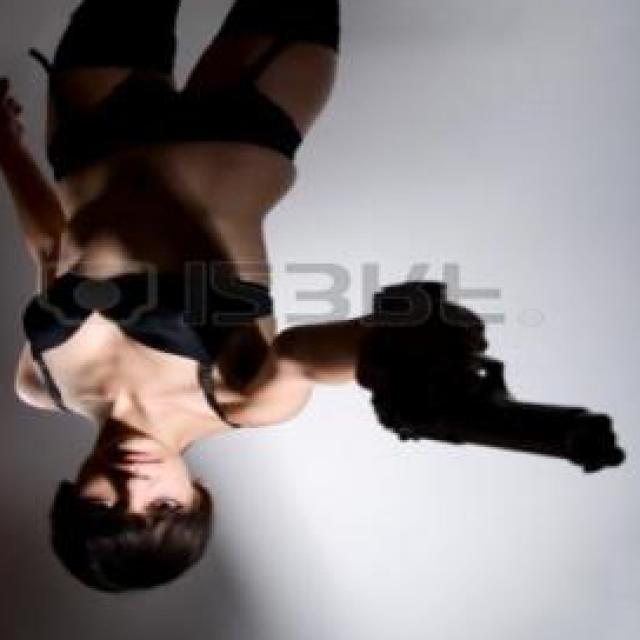pistol: (362, 280, 627, 475)
